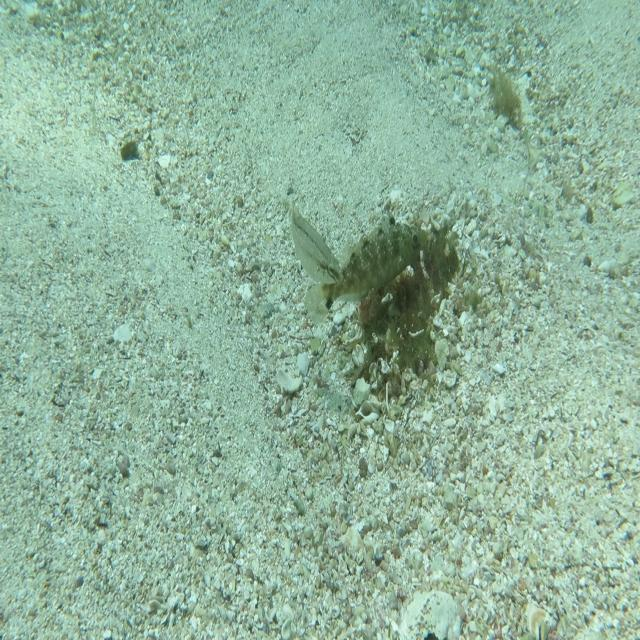FAN: (303, 208, 428, 328)
female: (289, 194, 344, 285)
nest: (343, 204, 473, 410)
vegetation: (484, 60, 527, 128), (118, 134, 140, 164)
